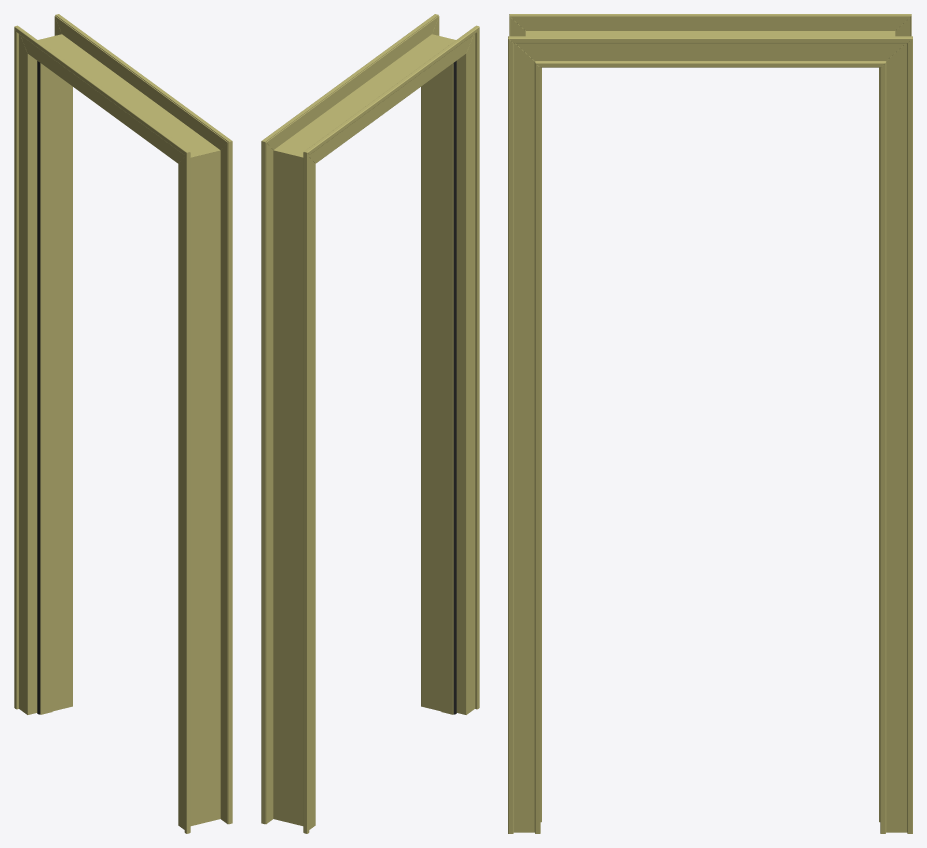
Rendered from contour.obj.
3 views of the same model, side by side, from view 1: azimuth 30°, elevation 25°; view 2: azimuth 150°, elevation 25°; view 3: azimuth 270°, elevation 25° (orthographic). The views are drawn at different scales.
Parts seen in each view (by area): view 1: Rectangle0; view 2: Rectangle0; view 3: Rectangle0.
Part boxes in pixels (x1,y1,x2,y2): Rectangle0: [14, 14, 232, 833]; Rectangle0: [261, 14, 479, 833]; Rectangle0: [508, 14, 912, 833].
Size of the model in its own units: 0.5954 by 8.5 by 3.92.
